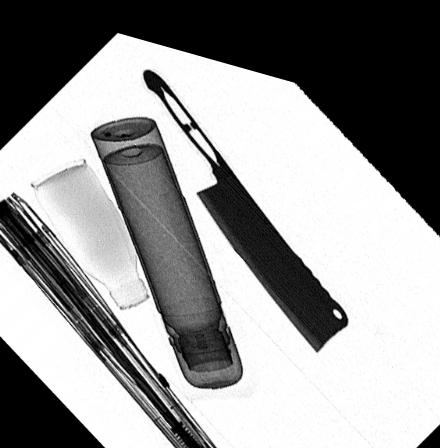Knife: (141, 58, 349, 334)
